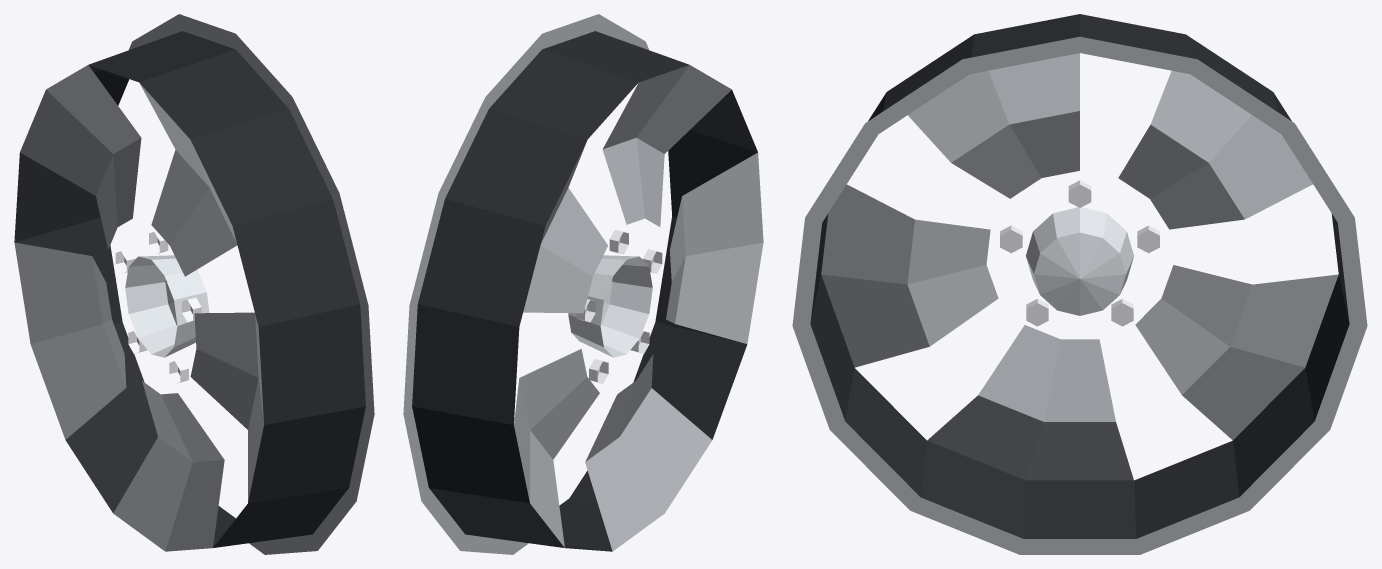
Rendered from rim_03_muscle_torq5.obj.
3 views of the same model, side by side, from view 1: azimuth 30°, elevation 25°; view 2: azimuth 150°, elevation 25°; view 3: azimuth 270°, elevation 25° (orthographic). The views are drawn at different scales.
Visible parts, largest first — view 1: rim_03_muscle_torq5; view 2: rim_03_muscle_torq5; view 3: rim_03_muscle_torq5.
Part boxes in pixels (x1,y1,x2,y2): rim_03_muscle_torq5: (14,14,374,554); rim_03_muscle_torq5: (403,14,763,554); rim_03_muscle_torq5: (792,14,1367,554).
Size of the model in its own units: 0.1 by 0.4945 by 0.4973.
